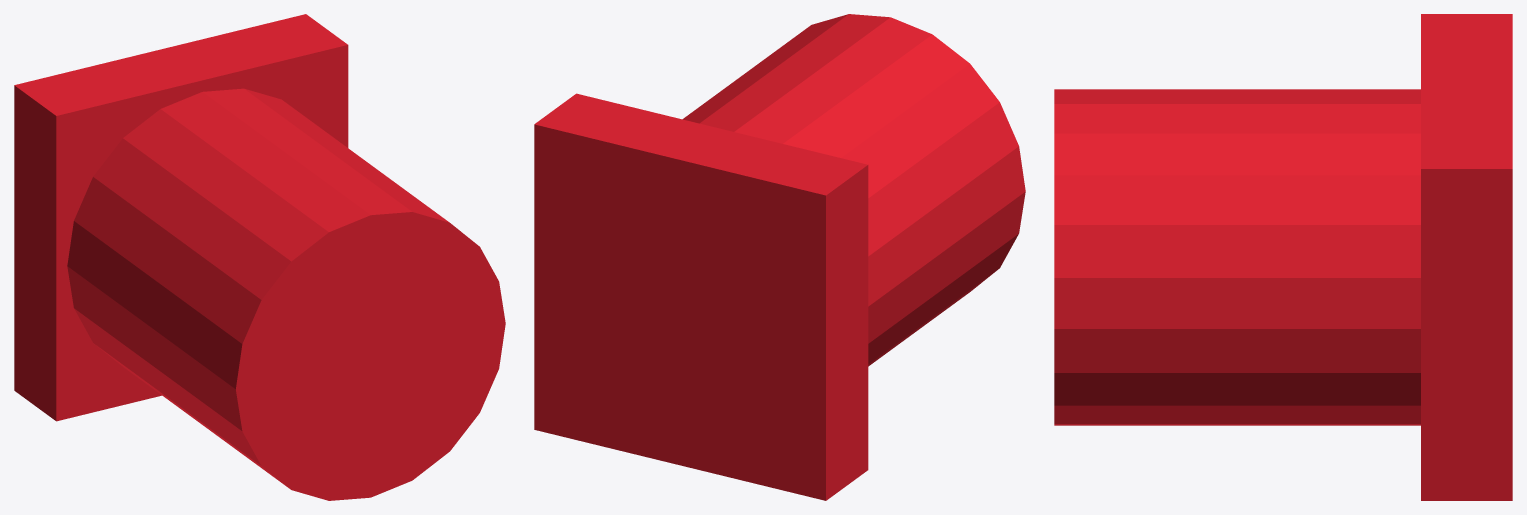
File: tinker.obj
3 views of the same model, side by side, from view 1: azimuth 30°, elevation 25°; view 2: azimuth 150°, elevation 25°; view 3: azimuth 270°, elevation 25° (orthographic). The views are drawn at different scales.
Parts seen in each view (by area): view 1: obj_0; view 2: obj_0; view 3: obj_0.
Part boxes in pixels (left/top/right/bottom): obj_0: left=14, top=14, right=505, bottom=500; obj_0: left=534, top=14, right=1025, bottom=500; obj_0: left=1054, top=14, right=1512, bottom=500.
Size of the model in its own units: 16 by 16 by 20.
